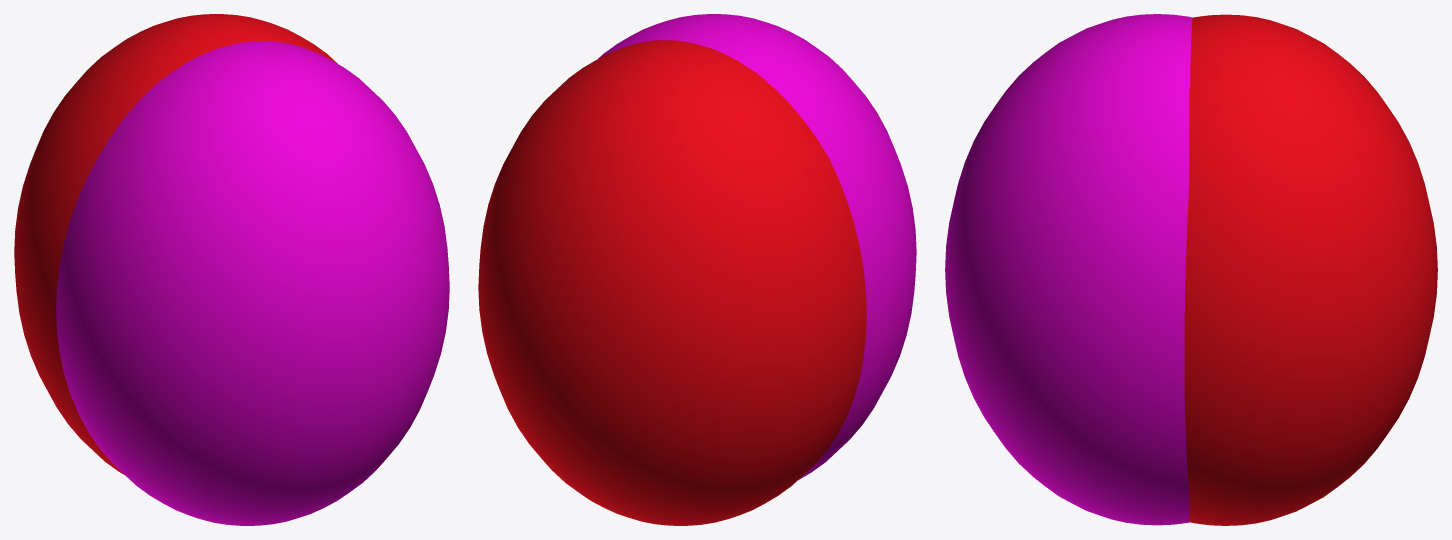
File: smooth_sphere_5.glb
3 views of the same model, side by side, from view 1: azimuth 30°, elevation 25°; view 2: azimuth 150°, elevation 25°; view 3: azimuth 270°, elevation 25° (orthographic). The views are drawn at different scales.
Visible parts, largest first — view 1: Sphere.002, Sphere.004; view 2: Sphere.004, Sphere.002; view 3: Sphere.004, Sphere.002.
Part boxes in pixels (x1,y1,x2,y2): Sphere.002: [56, 41, 449, 525]; Sphere.004: [14, 14, 337, 474]; Sphere.004: [478, 40, 866, 525]; Sphere.002: [598, 14, 916, 479]; Sphere.004: [1184, 14, 1437, 525]; Sphere.002: [945, 14, 1192, 525].
Bounding box in the file's own units: 2.05 × 2.55 × 2.37.
